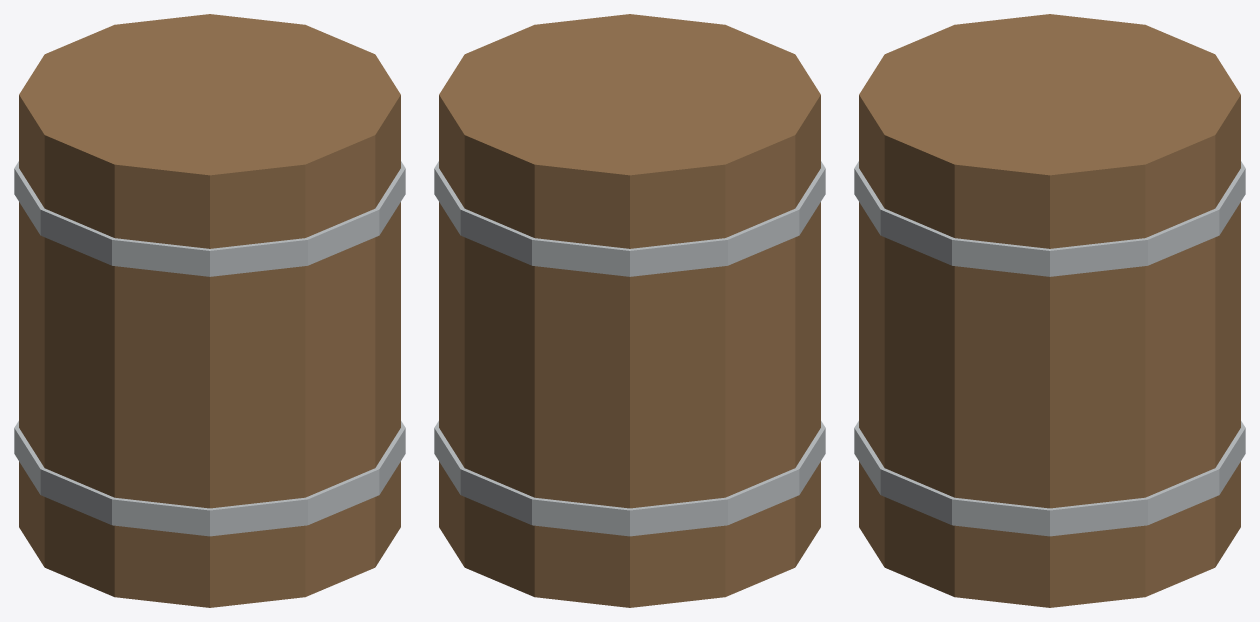
Rendered from sm_product_wine_barrel.glb.
The picture shows the model from 3 angles, left to right: view 1: azimuth 30°, elevation 25°; view 2: azimuth 150°, elevation 25°; view 3: azimuth 270°, elevation 25°; orthographic projection.
Parts seen in each view (by area): view 1: wine_barrel_0, wine_barrel_2, wine_barrel_1; view 2: wine_barrel_0, wine_barrel_2, wine_barrel_1; view 3: wine_barrel_0, wine_barrel_2, wine_barrel_1.
Boxes of the visible parts, x1,y1,x2,y2 form: wine_barrel_0: [19, 14, 400, 607]; wine_barrel_2: [14, 161, 405, 276]; wine_barrel_1: [14, 421, 405, 536]; wine_barrel_0: [439, 14, 820, 607]; wine_barrel_2: [434, 161, 825, 276]; wine_barrel_1: [434, 421, 825, 536]; wine_barrel_0: [859, 14, 1240, 607]; wine_barrel_2: [854, 161, 1245, 276]; wine_barrel_1: [854, 421, 1245, 536].
Size of what is drawn, in the model's own units: 0.41 by 0.5 by 0.41.
